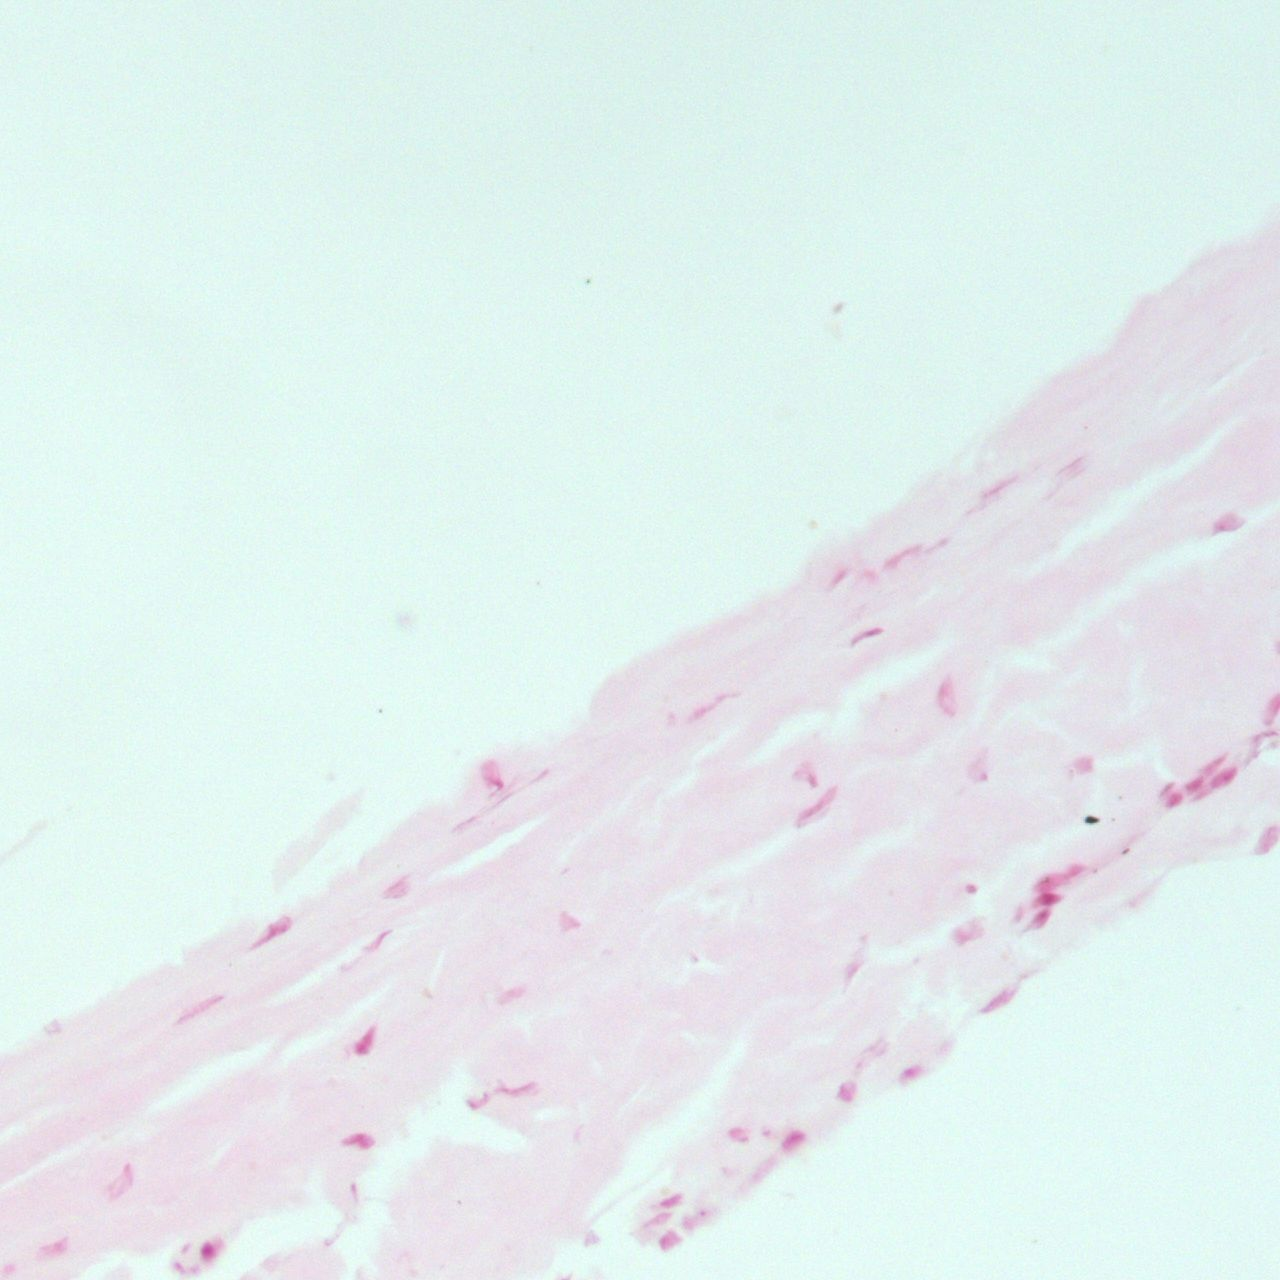dust: (1083, 813, 1099, 824), (1121, 846, 1131, 856), (1109, 816, 1116, 822), (1118, 794, 1122, 799)
nucleus-AC: (788, 779, 846, 832), (682, 683, 745, 726), (964, 472, 1019, 518), (173, 990, 227, 1027), (248, 912, 295, 953), (874, 540, 925, 576), (978, 981, 1022, 1017), (472, 757, 510, 797), (788, 756, 825, 794), (381, 871, 418, 905), (350, 1019, 382, 1058), (846, 622, 887, 648), (1208, 508, 1247, 535), (1207, 763, 1240, 794), (952, 918, 985, 947), (933, 676, 956, 716), (366, 924, 396, 954), (38, 1235, 72, 1260), (1024, 906, 1053, 934), (495, 1080, 536, 1098), (779, 1126, 806, 1155), (840, 955, 864, 987), (824, 564, 850, 591), (644, 1208, 672, 1233), (464, 1089, 492, 1112), (496, 983, 525, 1006), (1199, 755, 1226, 778), (339, 1132, 376, 1149), (1035, 872, 1064, 892), (658, 1228, 682, 1252), (1033, 890, 1062, 907), (1060, 862, 1085, 881), (900, 1062, 922, 1084), (659, 1192, 685, 1211), (1184, 774, 1207, 794), (559, 910, 580, 930), (1189, 785, 1212, 803), (120, 1160, 135, 1187), (968, 762, 989, 781), (838, 1081, 856, 1103), (728, 1128, 748, 1146), (200, 1240, 216, 1264), (1075, 756, 1092, 772), (178, 1238, 195, 1255), (584, 1231, 598, 1247), (349, 1184, 360, 1205), (862, 570, 880, 581), (1, 1262, 16, 1276), (1167, 794, 1182, 806), (937, 536, 949, 550), (171, 1260, 185, 1273), (683, 1216, 694, 1232), (965, 883, 978, 894), (188, 1262, 199, 1275), (758, 1128, 771, 1137), (699, 1211, 706, 1217)
